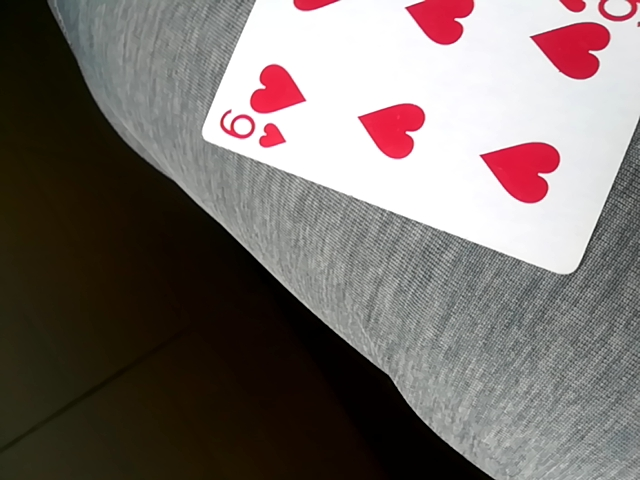hx 6: (203, 0, 640, 276)
